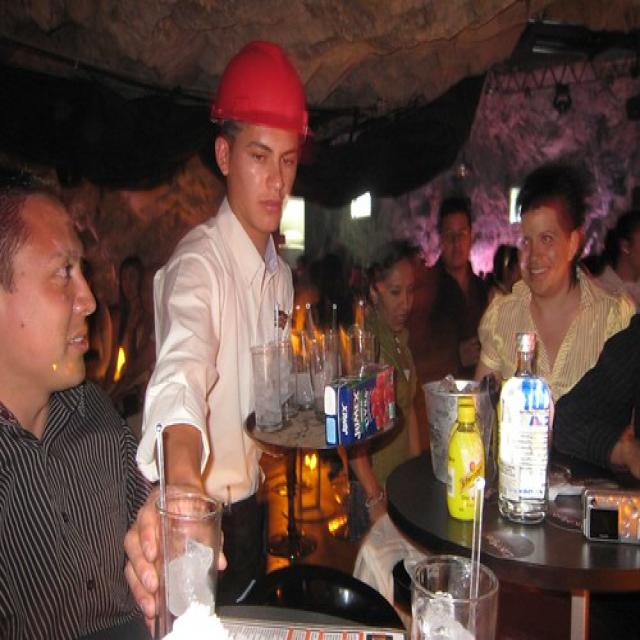Safety-Helmet: (200, 33, 325, 162)
